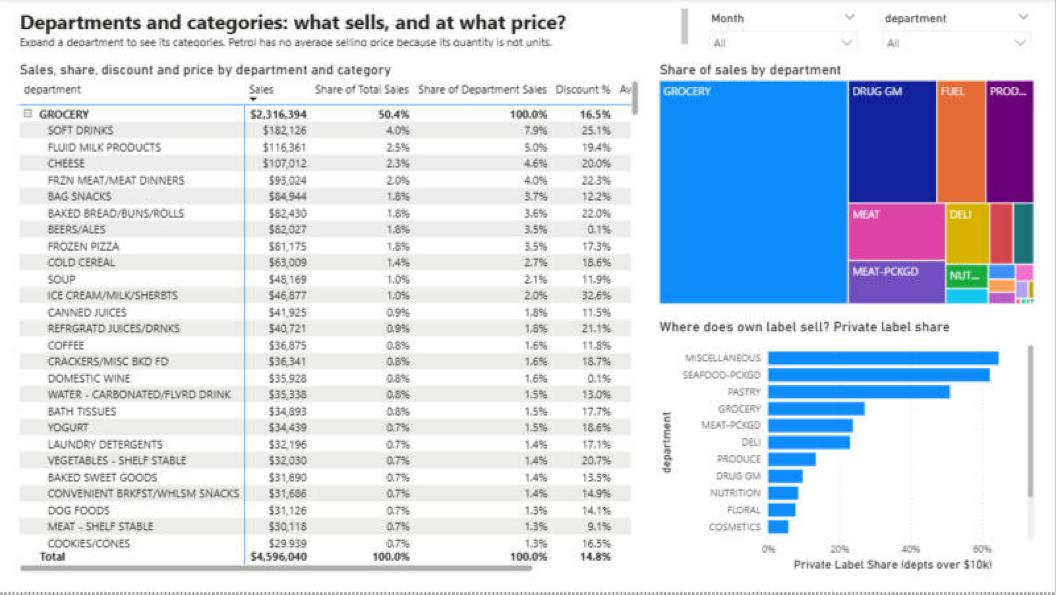

The dashboard page shown, as its layout file describes it:
{"tool":"powerbi","page":{"name":"Departments","canvas":[1280,720],"ordinal":2},"visuals":[{"type":"textbox","box":[20,8,820,56],"z":1000},{"type":"slicer","fields":{"Values":["Dim_Date.Month"]},"box":[850,10,200,52],"z":2000},{"type":"slicer","fields":{"Values":["Dim_Product.department"]},"box":[1060,10,200,52],"z":3000},{"type":"pivotTable","title":"Sales, share, discount and price by department and category","fields":{"Rows":["Dim_Product.department","Dim_Product.product_category"],"Values":["_Measures.Sales","_Measures.Share of Total Sales","_Measures.Share of Department Sales","_Measures.Discount %","_Measures.Avg Selling Price"]},"box":[20,76,760,624],"z":4000},{"type":"treemap","title":"Share of sales by department","fields":{"Group":["Dim_Product.department"],"Values":["_Measures.Sales"]},"box":[796,76,464,300],"z":5000},{"type":"clusteredBarChart","title":"Where does own label sell? Private label share","fields":{"Category":["Dim_Product.department"],"Y":["_Measures.Private Label Share (depts over $10k)"]},"box":[796,388,464,312],"z":6000}]}

Visuals, with their boxes in screenshot pixels (x1, y1, x2, y2), scaled from the page's 1280x720 canvas onto the 1056x595 screenshot:
textbox: x1=16, y1=7, x2=693, y2=53
slicer - Dim_Date.Month: x1=701, y1=8, x2=866, y2=51
slicer - Dim_Product.department: x1=874, y1=8, x2=1040, y2=51
"Sales, share, discount and price by department and category" pivotTable: x1=16, y1=63, x2=644, y2=578
"Share of sales by department" treemap: x1=657, y1=63, x2=1040, y2=311
"Where does own label sell? Private label share" clusteredBarChart: x1=657, y1=321, x2=1040, y2=578
